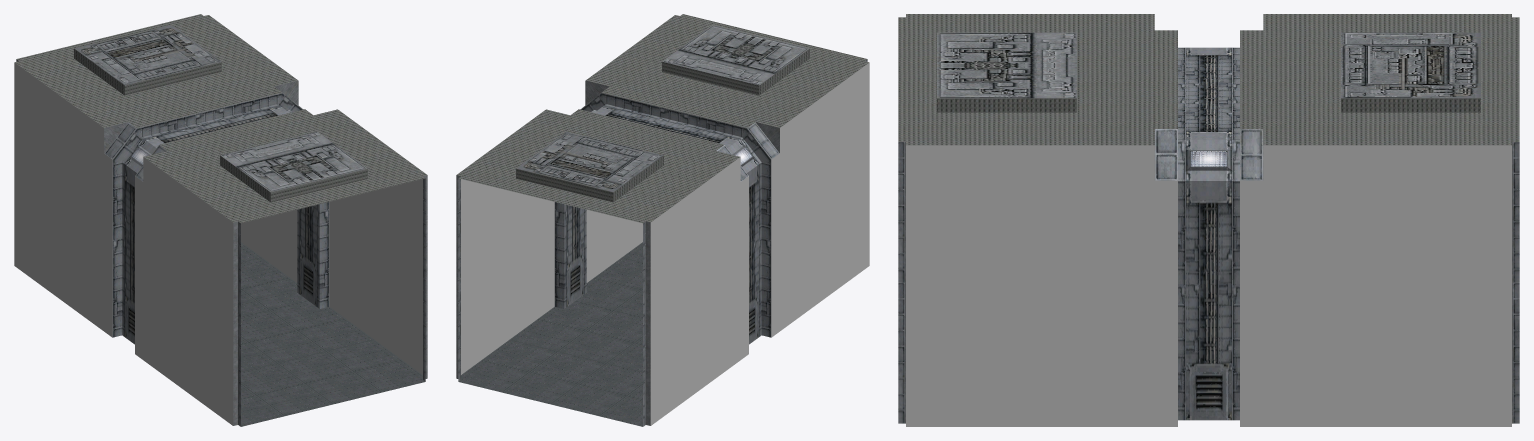
File: poi_all_impl_bunker_small_outpost_s01_r20_hall10_mesh.fbx
The picture shows the model from 3 angles, left to right: view 1: azimuth 30°, elevation 25°; view 2: azimuth 150°, elevation 25°; view 3: azimuth 270°, elevation 25°; orthographic projection. The views are drawn at different scales.
Visible parts, largest first — view 1: mesh_node; view 2: mesh_node; view 3: mesh_node.
Part boxes in pixels (box(x1,y1,x2,y2)): mesh_node: box(14, 14, 427, 426); mesh_node: box(456, 14, 869, 426); mesh_node: box(898, 14, 1519, 426).
Bounding box in the file's own units: 4 × 4.2 × 8.
